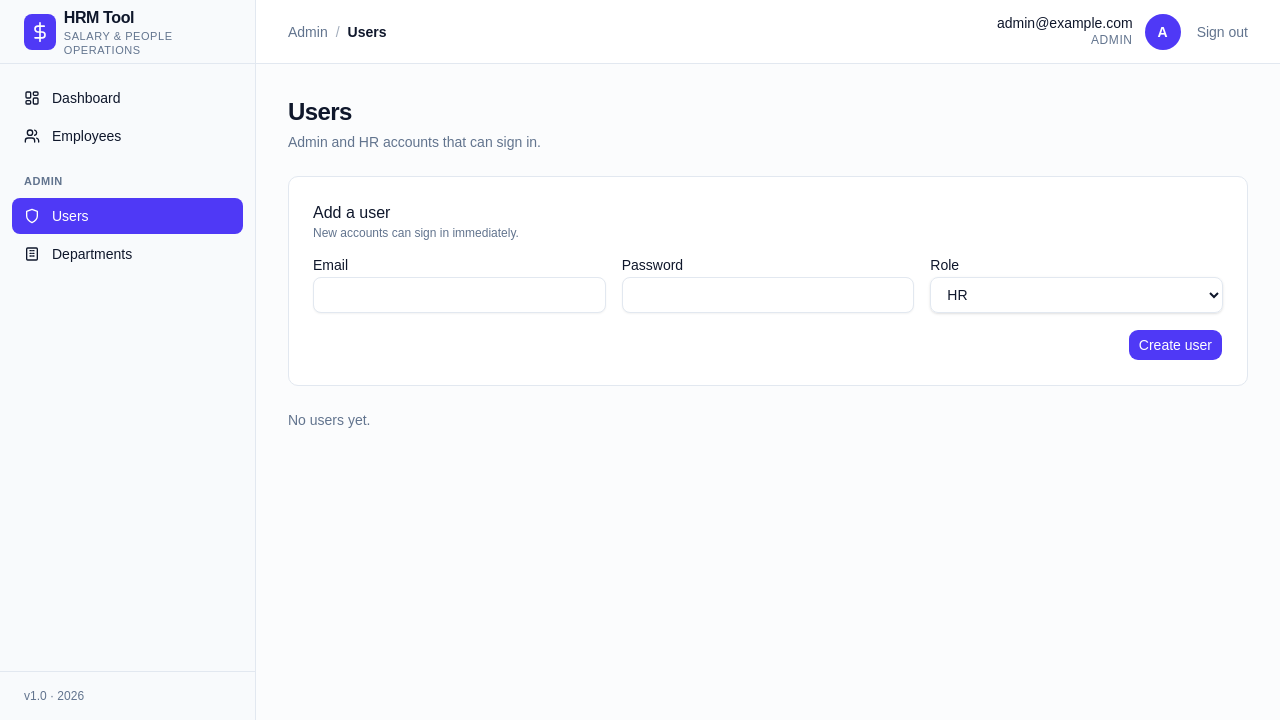
Test: UsersPage › creates a user and refreshes the list
The image size is (1280, 720).
Expected: the text "No users yet." is shown, [288,412,370,428]
Type "new-hr@example.com" into the field labelled "Email".
click(459, 295); type("new-hr@example.com")  # box [313,277,606,313]
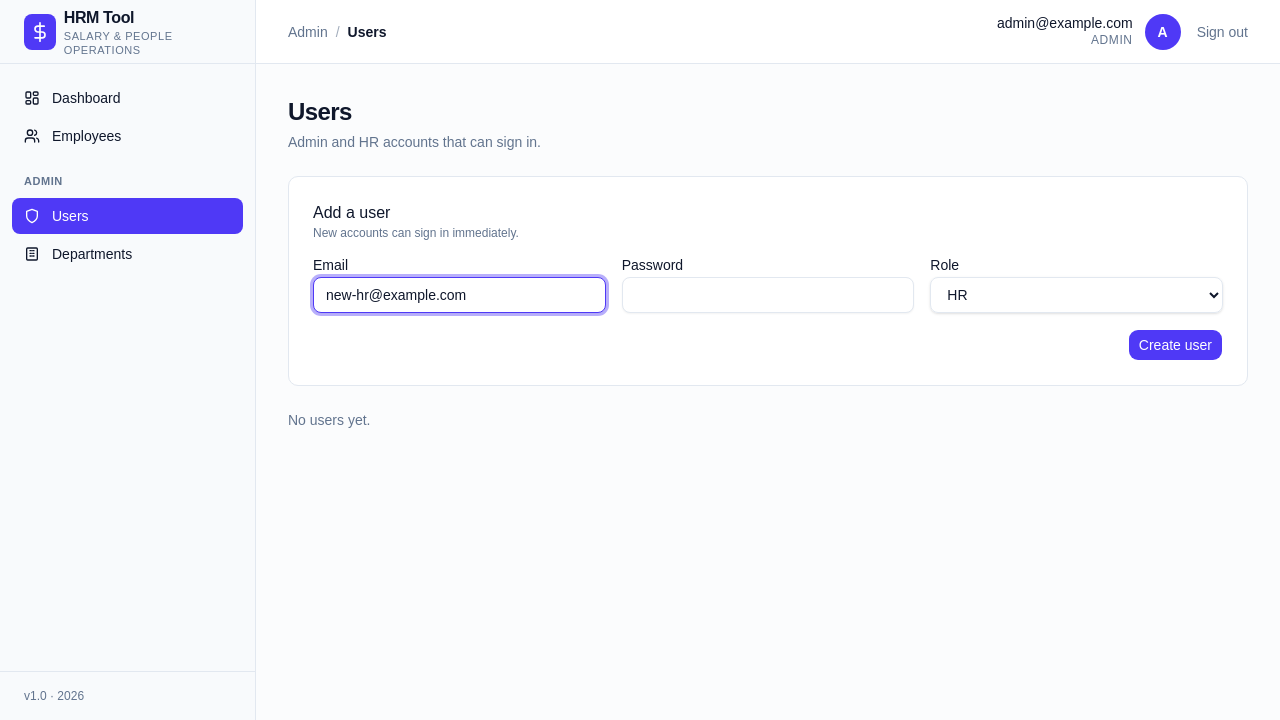
Type "secret123" into the password field labelled "Password".
click(768, 295); type("secret123")  # box [622,277,914,313]
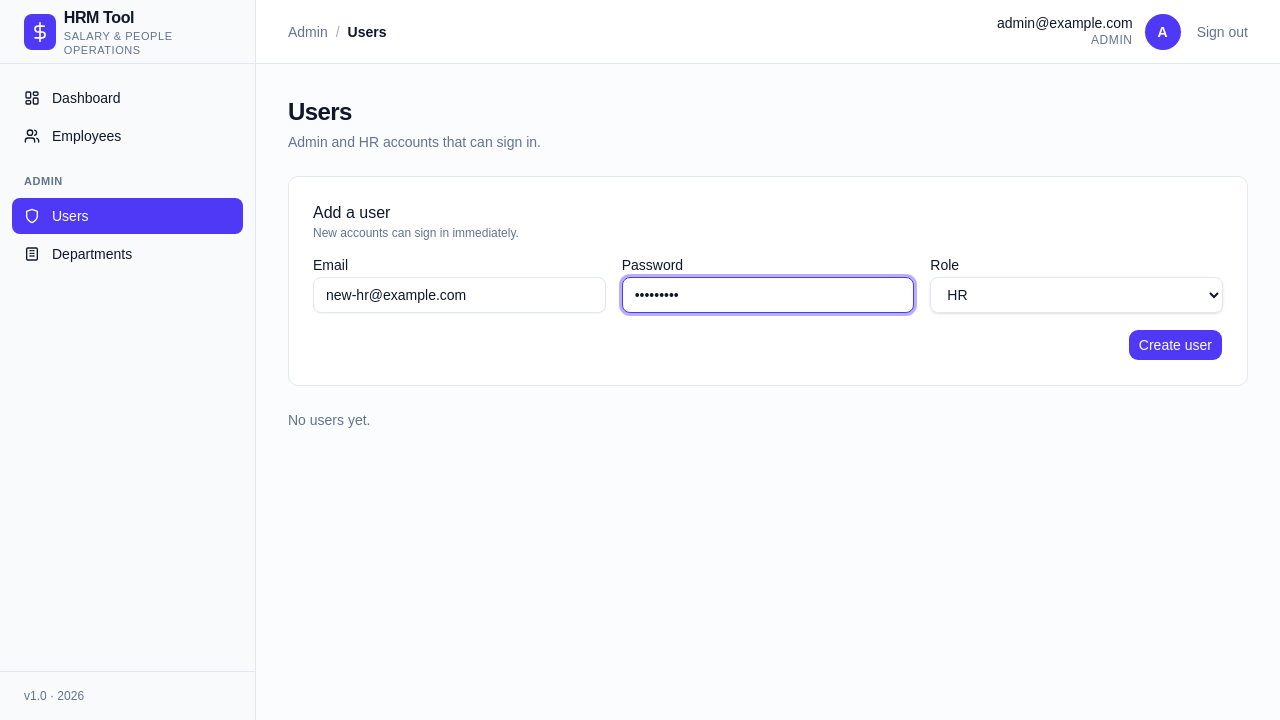
Select "HR" in the dropdown labelled "Role" at (1077, 295), box [930,277,1223,313]
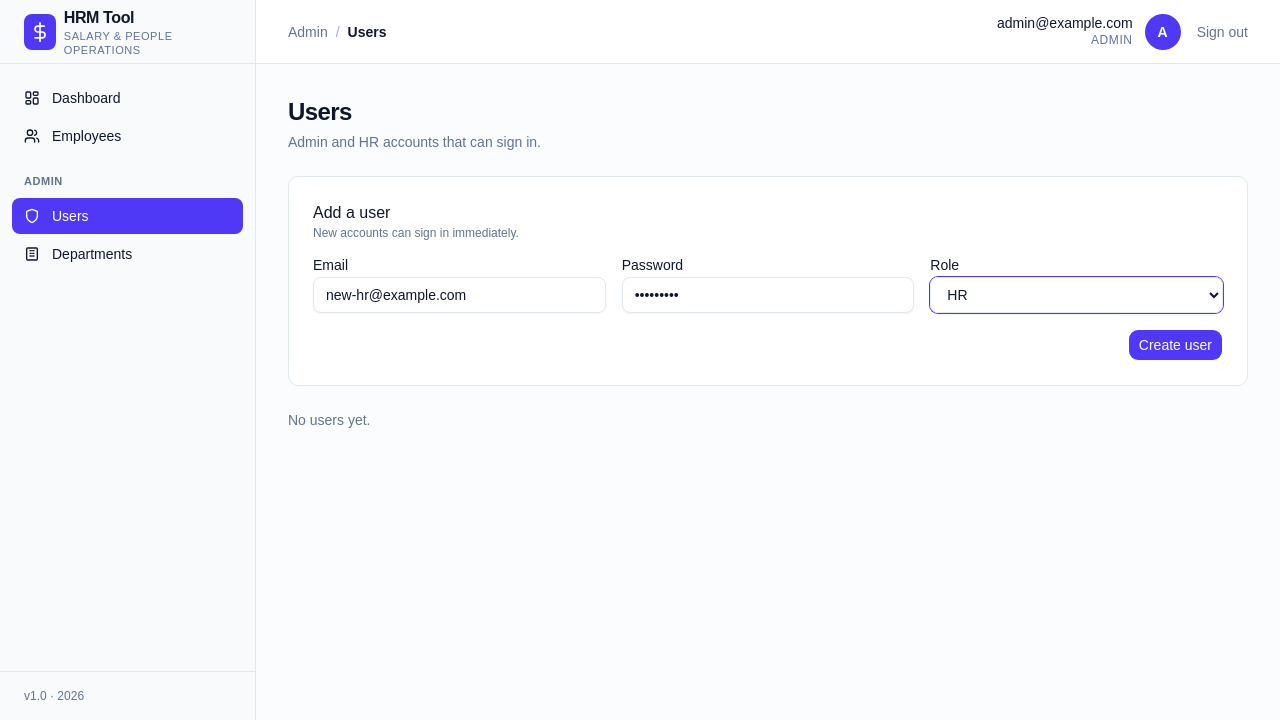
Click the button "Create user".
click(1175, 345)  # box [1128,329,1223,361]
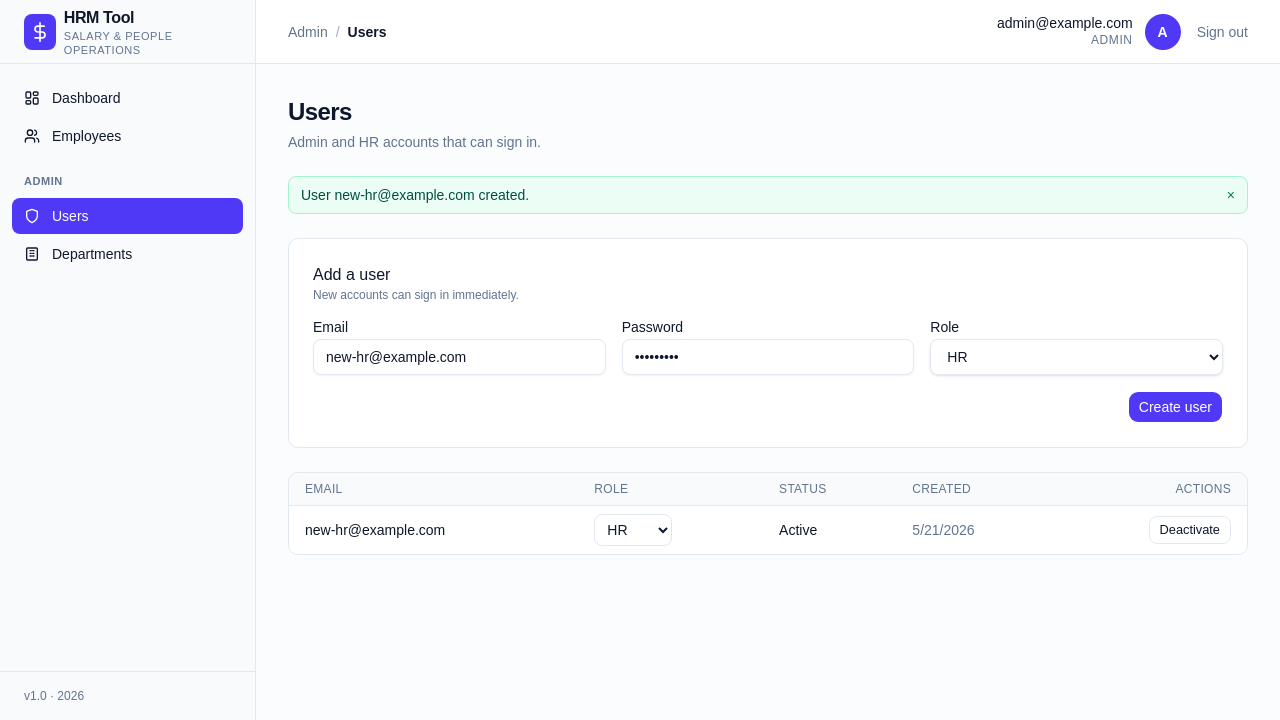
Expected: the text "new-hr@example.com" is shown, [289,506,578,554]
